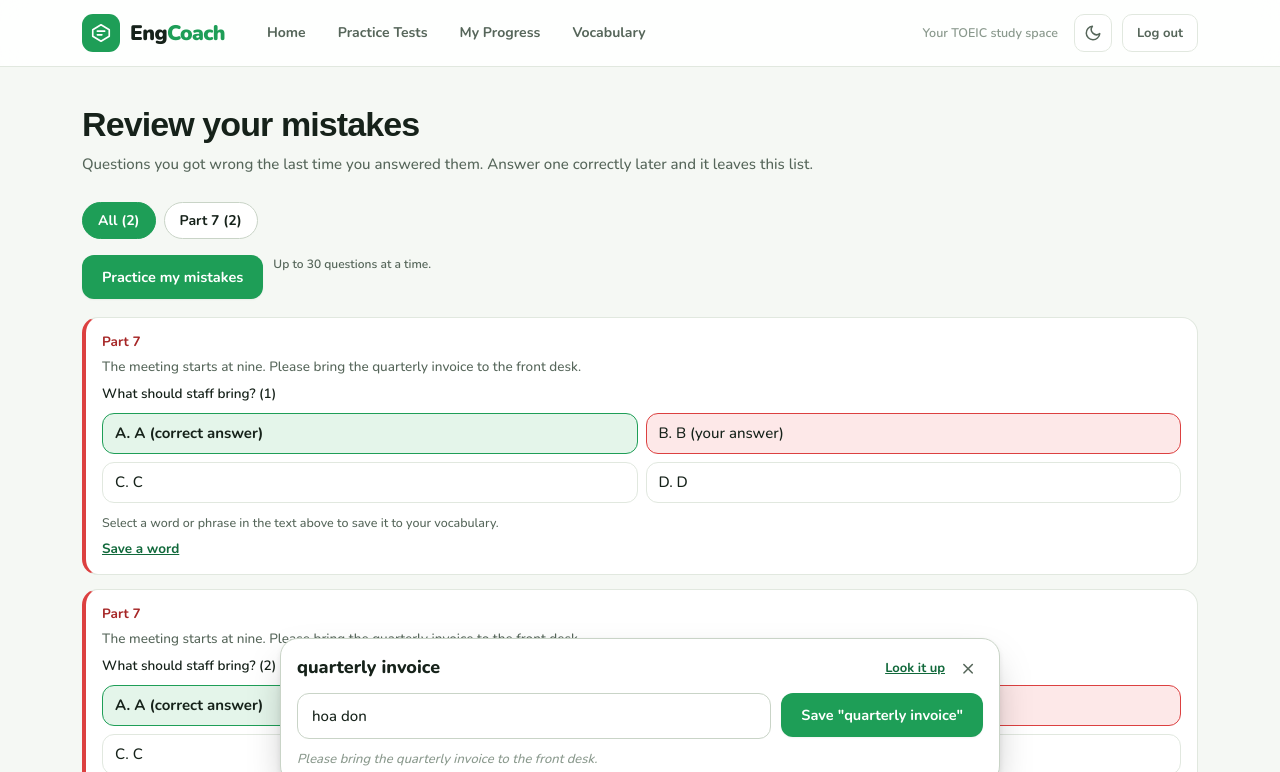
Test: Saving a selected word › lets the learner correct the suggested meaning in the bar and save with Enter
The width and height of the screenshot is (1280, 772).
Expected: the text "quarterly invoice" is shown, [297,654,440,682]
Replace the text in the field named "meaning" with "hoa don hang quy": (534, 716) [297,693,771,739]
Then press Enter
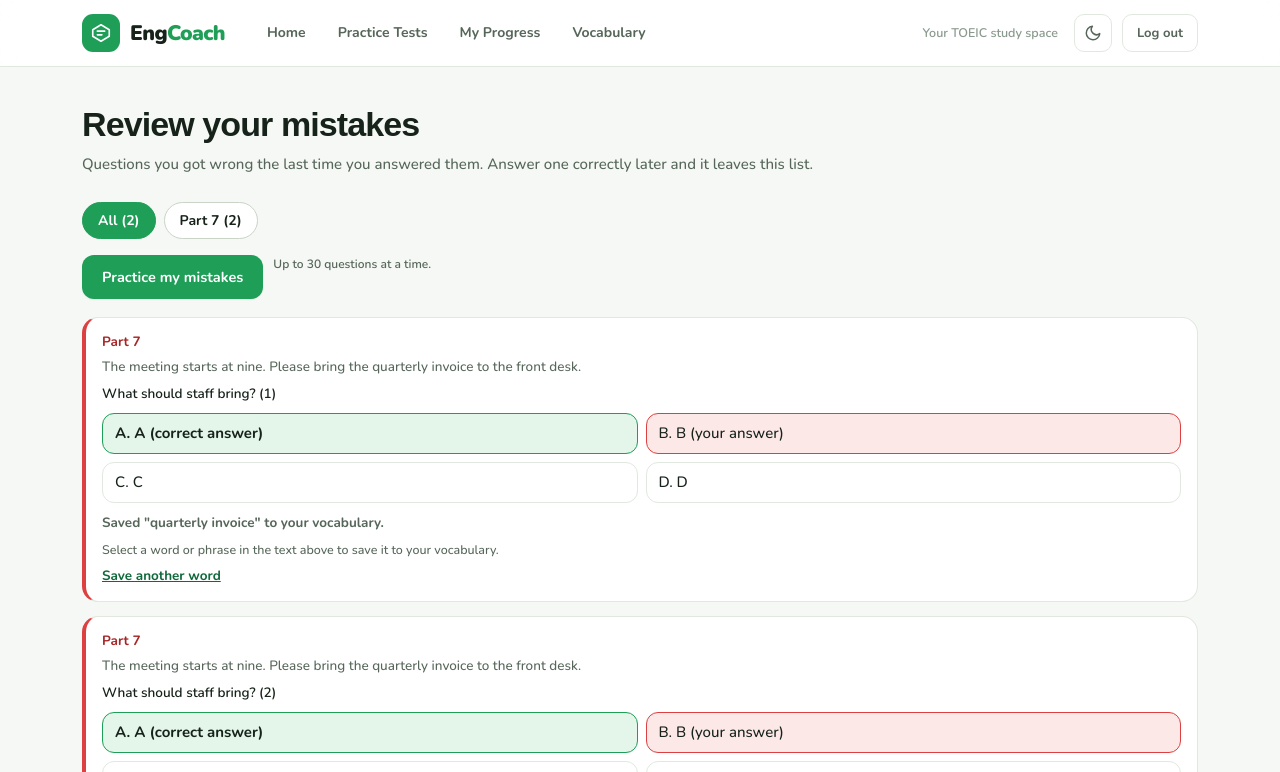
Expected: the text "Saved \"quarterly invoice\" to your vocabulary." is shown, [102,514,384,532]
